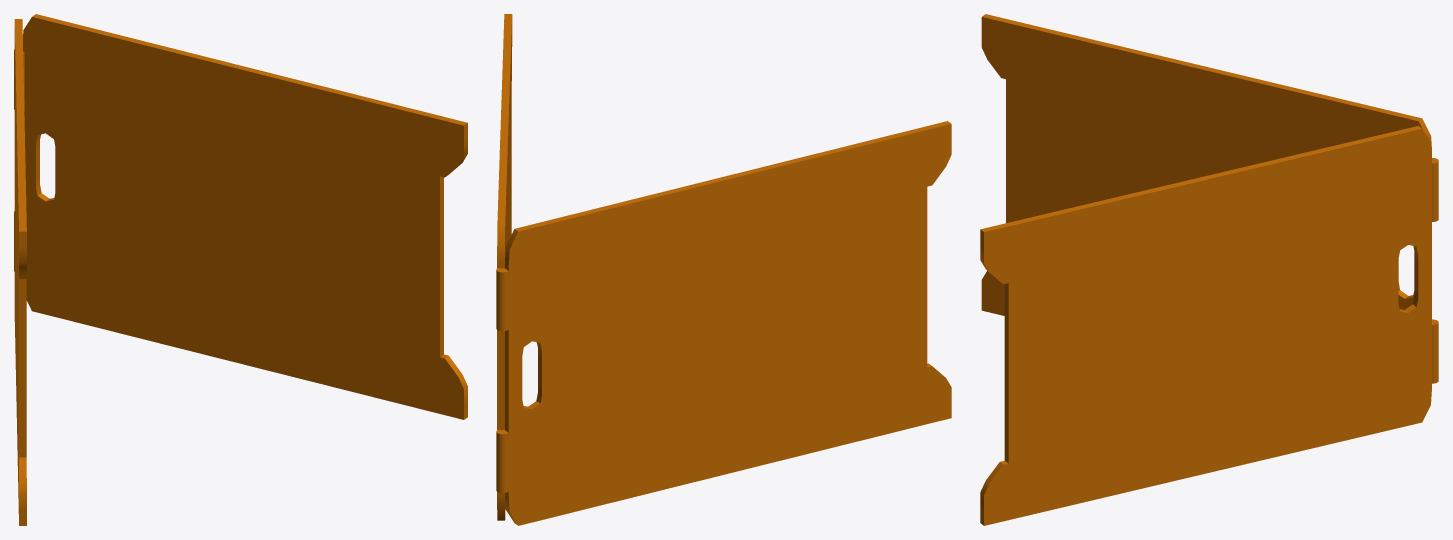
The picture shows the model from 3 angles, left to right: view 1: azimuth 30°, elevation 25°; view 2: azimuth 150°, elevation 25°; view 3: azimuth 270°, elevation 25°; orthographic projection.
Parts seen in each view (by area): view 1: WarrningLP; view 2: WarrningLP; view 3: WarrningLP.
Boxes of the visible parts, x1=… form: WarrningLP: x1=14, y1=14, x2=467, y2=525; WarrningLP: x1=496, y1=14, x2=951, y2=525; WarrningLP: x1=980, y1=14, x2=1438, y2=525.
Size of the model in its own units: 319 by 283 by 200.
